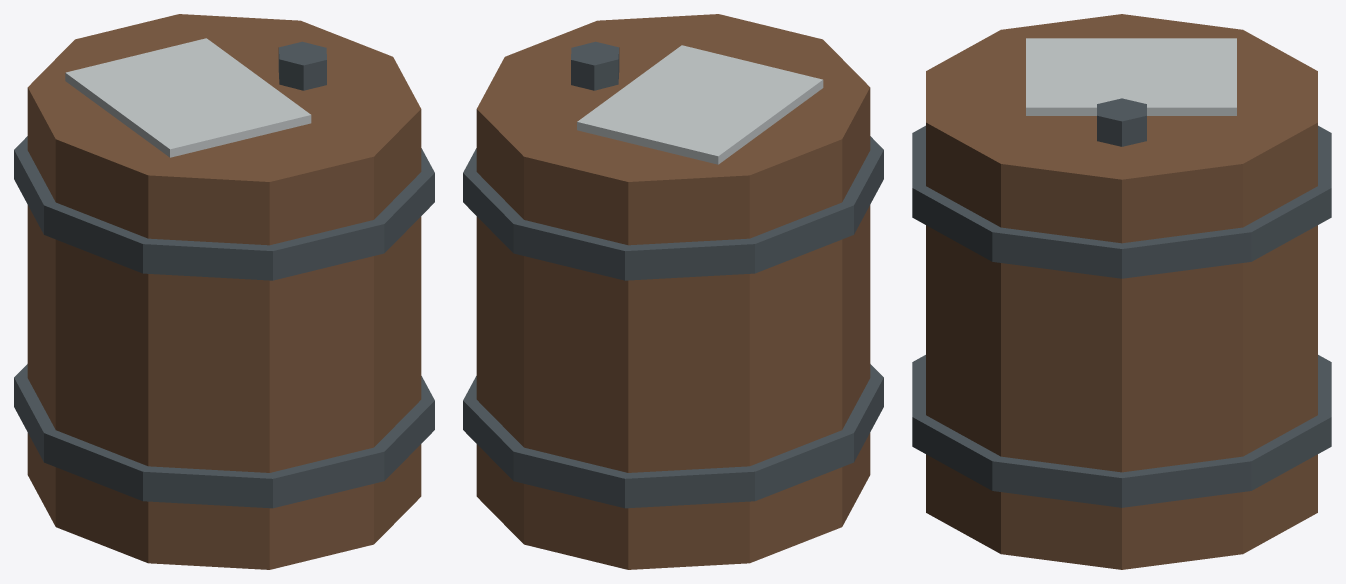
File: fuel_drum.glb
The picture shows the model from 3 angles, left to right: view 1: azimuth 30°, elevation 25°; view 2: azimuth 150°, elevation 25°; view 3: azimuth 270°, elevation 25°; orthographic projection.
Visible parts, largest first — view 1: fuel_drum; view 2: fuel_drum; view 3: fuel_drum.
Part boxes in pixels (x1=…): fuel_drum: x1=14, y1=14, x2=434, y2=569; fuel_drum: x1=463, y1=14, x2=883, y2=569; fuel_drum: x1=912, y1=14, x2=1331, y2=569.
Size of the model in its own units: 0.96 by 1.05 by 0.96.
